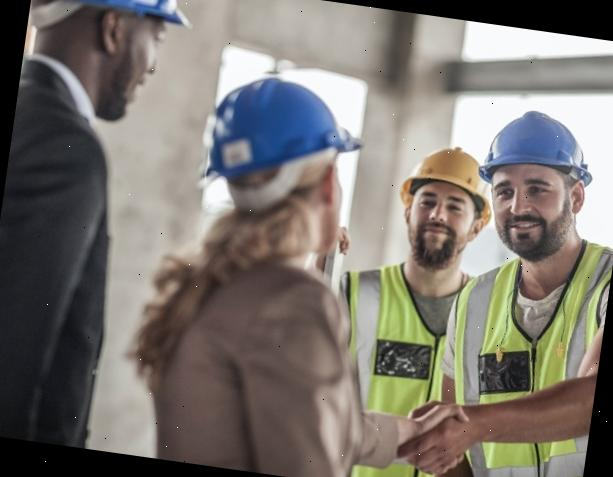helmet: (189, 60, 373, 221), (477, 103, 603, 200), (391, 136, 502, 236), (29, 0, 197, 33)
no_wear: (140, 247, 367, 477), (0, 107, 135, 449)
wear: (427, 249, 611, 477), (312, 253, 475, 477)
